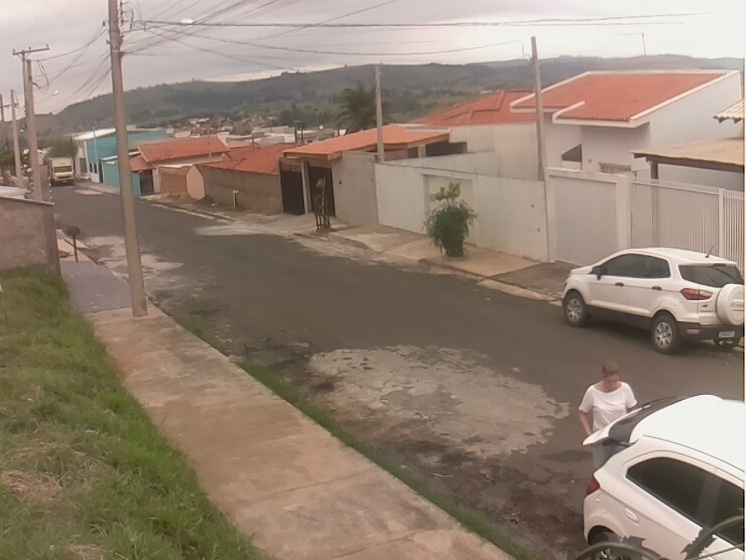person: (577, 360, 639, 460)
